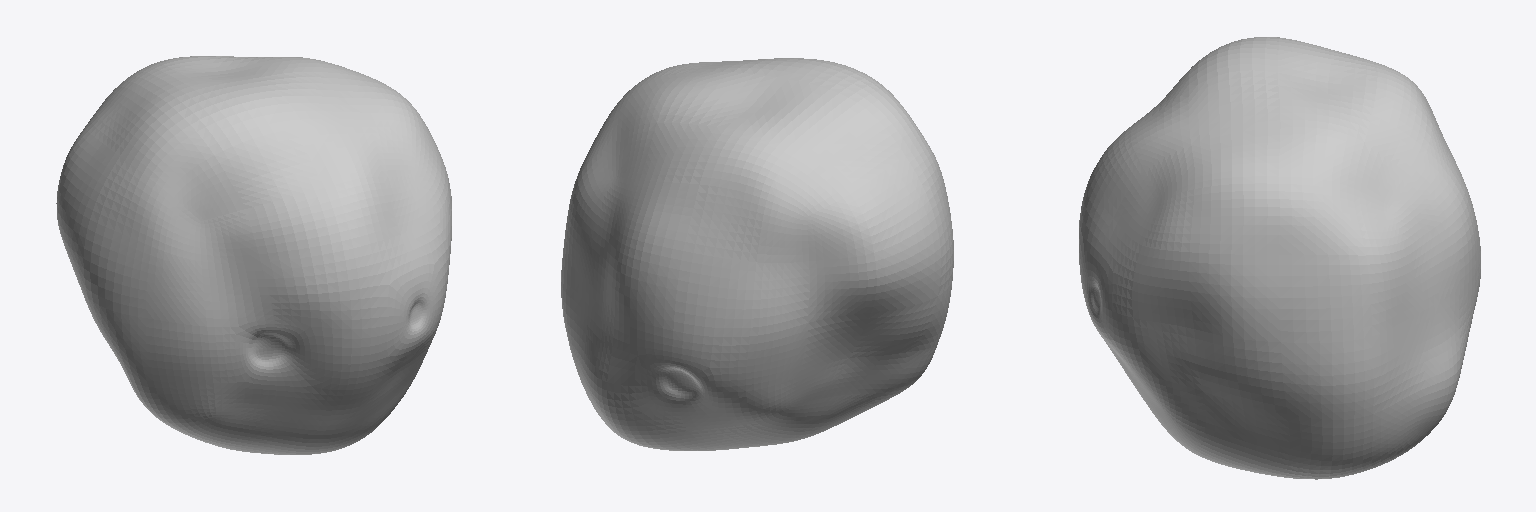
Rendered from 10464_Asteroid_v1_Iterations-2-3x.obj.
3 renders of one model, left to right at view 1: azimuth 30°, elevation 25°; view 2: azimuth 150°, elevation 25°; view 3: azimuth 270°, elevation 25°, orthographic.
Visible parts, largest first — view 1: 10464_Asteroid_v1_Iterations-2; view 2: 10464_Asteroid_v1_Iterations-2; view 3: 10464_Asteroid_v1_Iterations-2.
Boxes of the visible parts, x1=… form: 10464_Asteroid_v1_Iterations-2: x1=56, y1=56, x2=451, y2=454; 10464_Asteroid_v1_Iterations-2: x1=561, y1=58, x2=953, y2=450; 10464_Asteroid_v1_Iterations-2: x1=1079, y1=37, x2=1480, y2=479.
Size of the model in its own units: 29.9 by 30.29 by 30.15.